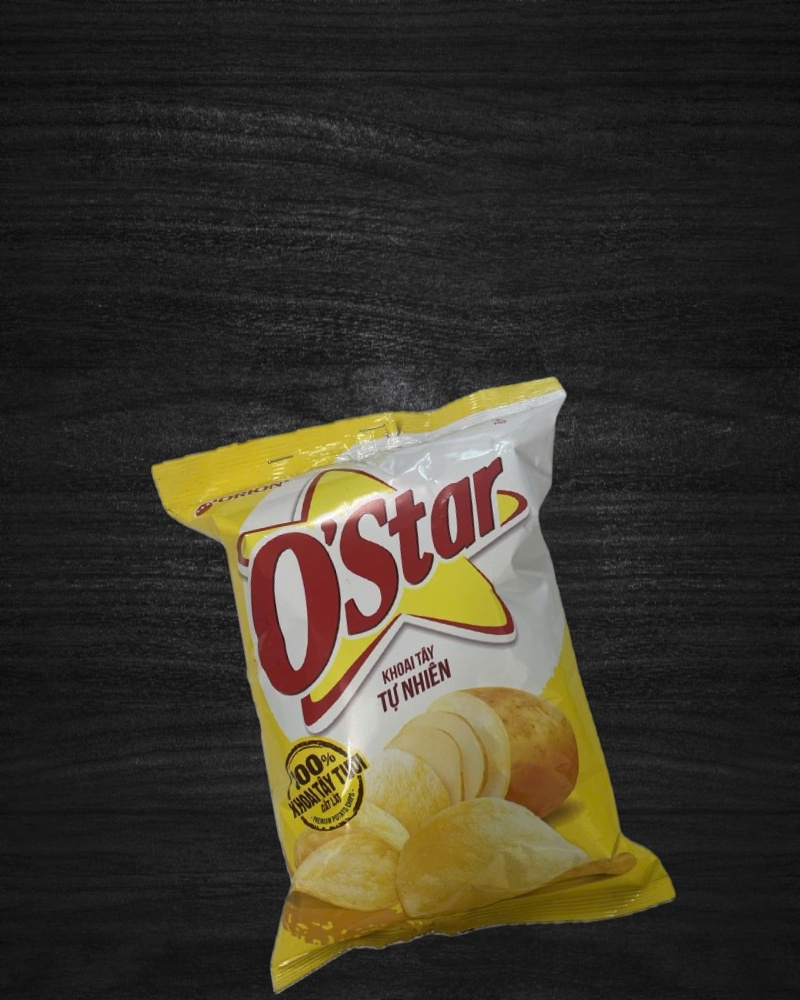O'star: (149, 371, 681, 1000)
